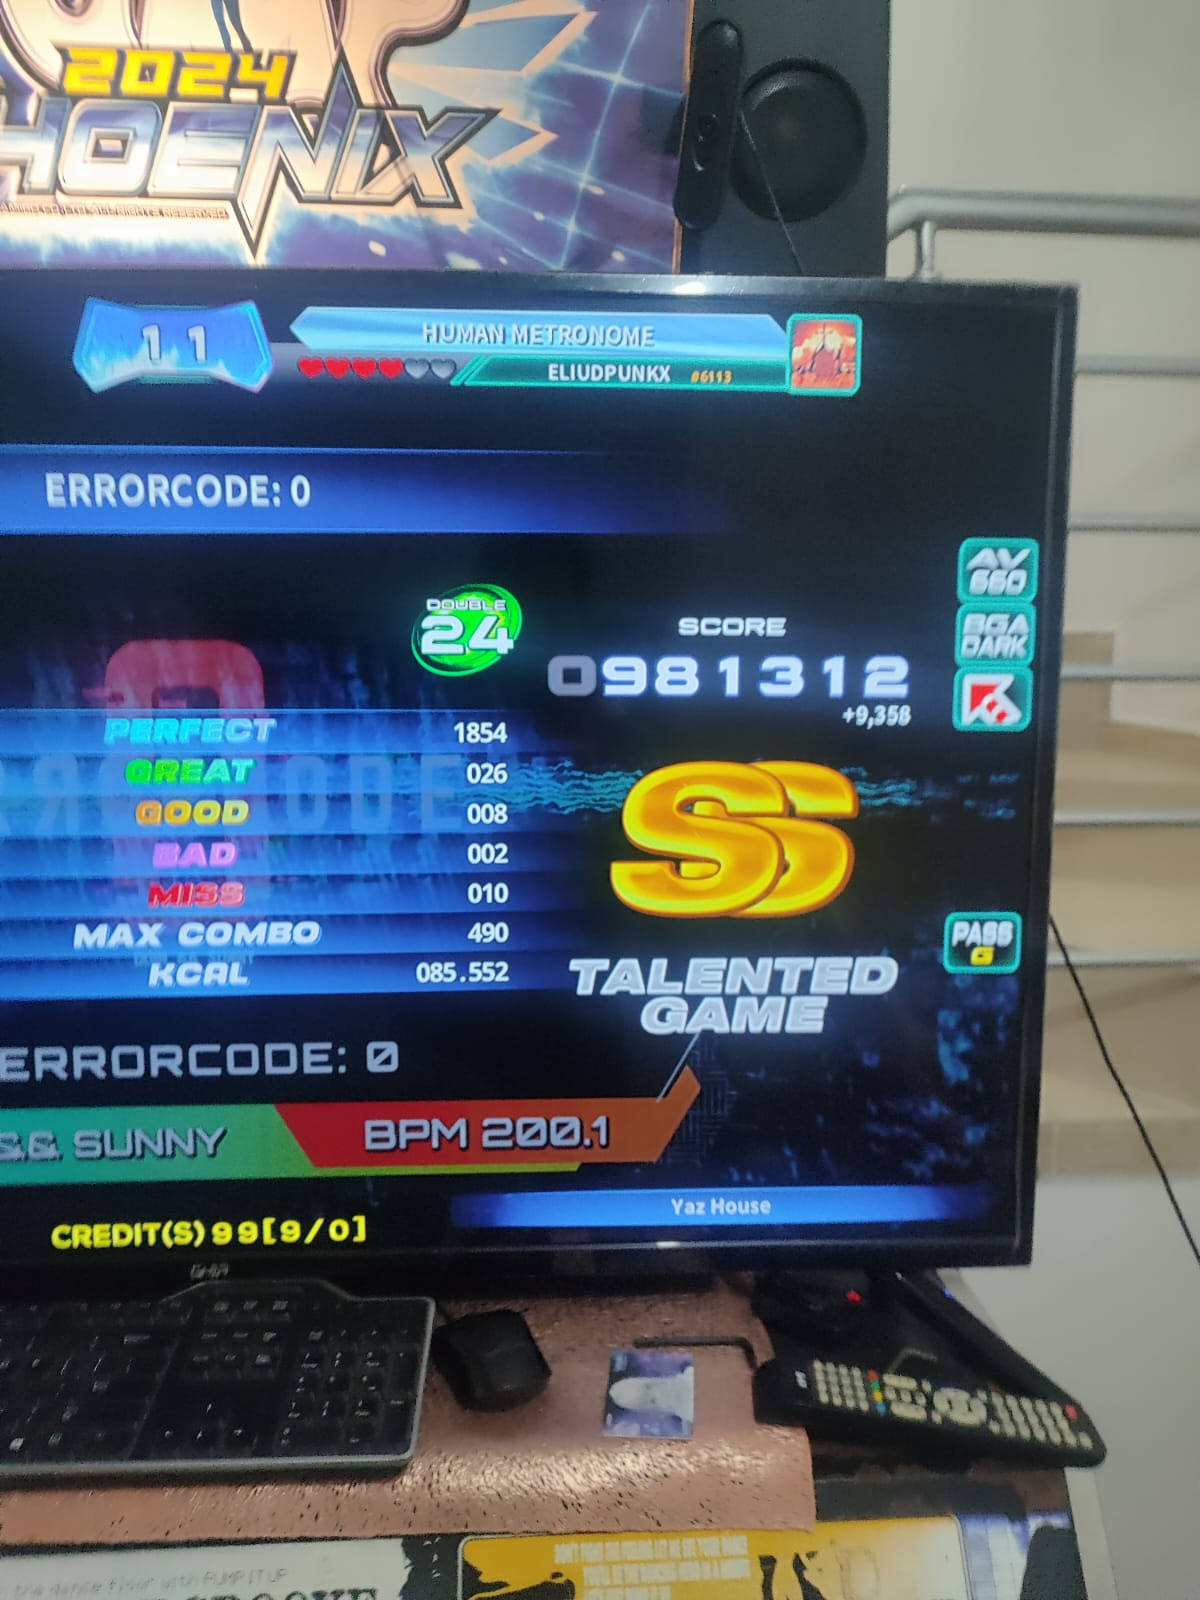difficulty: (418, 572, 527, 675)
fullscore: (0, 254, 1139, 1259)
rank: (580, 745, 911, 935)
score: (548, 607, 943, 697)
song_name: (14, 435, 503, 557)
